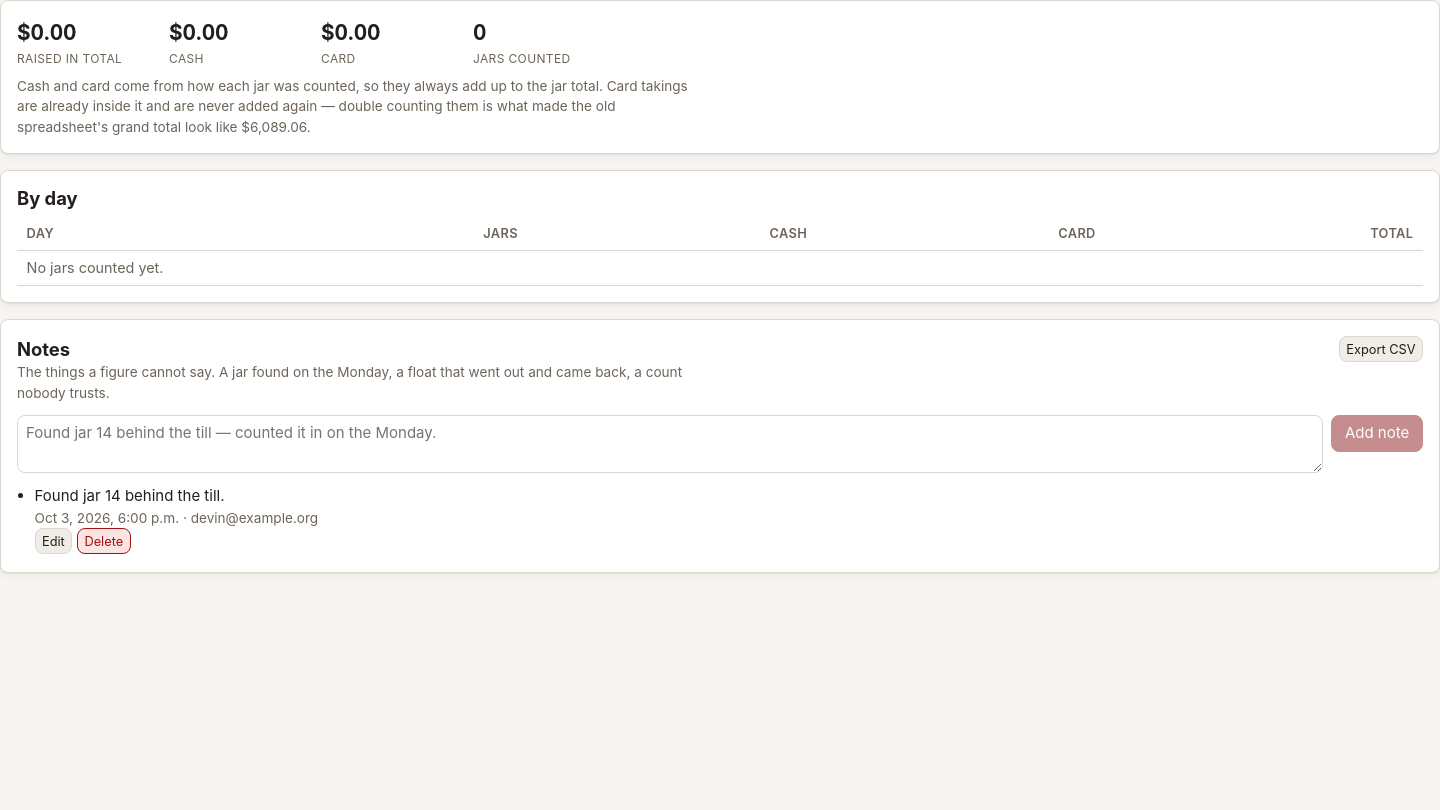
the list of them › lets an edit be abandoned
Click the button "Edit".
click(53, 541)  # box [35,528,72,554]
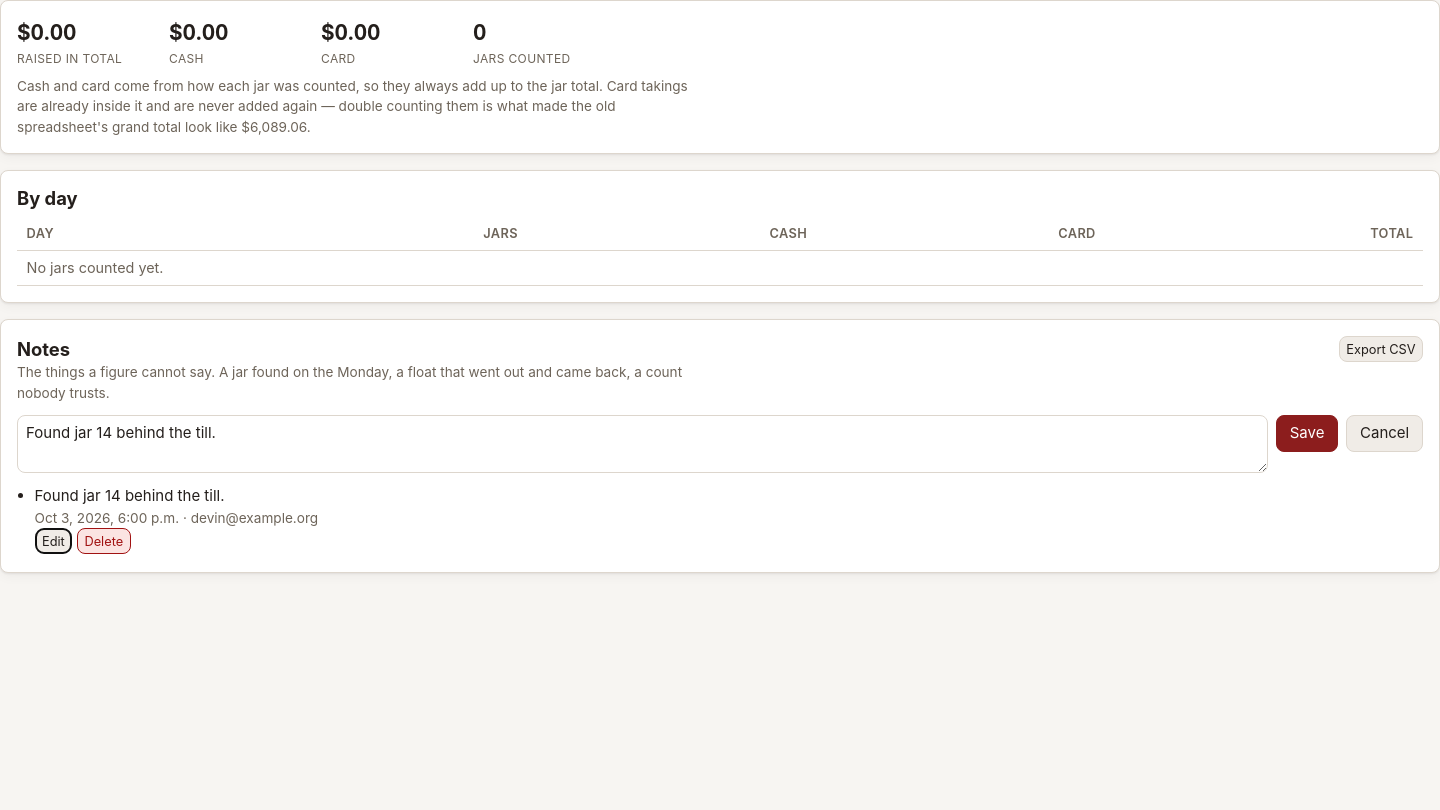
Click the button "Cancel".
click(1385, 434)  # box [1346,415,1423,452]
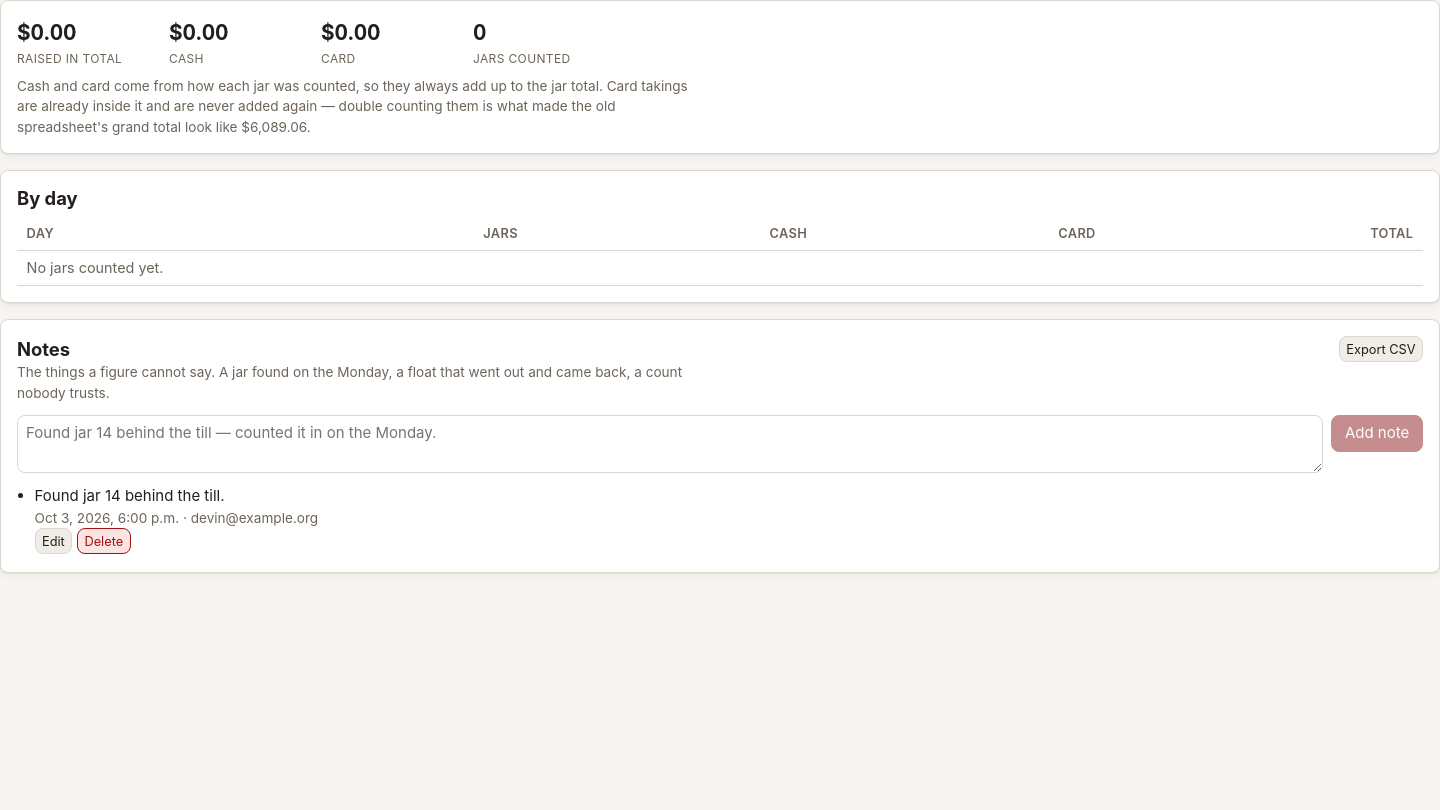
Now the text box named "Write a note" is shown, box [17,415,1323,473]
